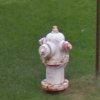Hydrant: (27, 14, 79, 100)
